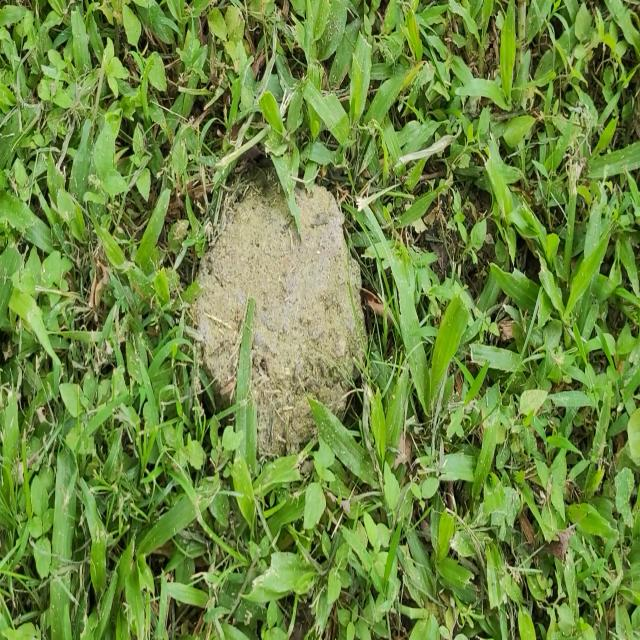grass: (247, 0, 640, 639), (0, 0, 281, 639)
stone: (194, 183, 365, 455)
